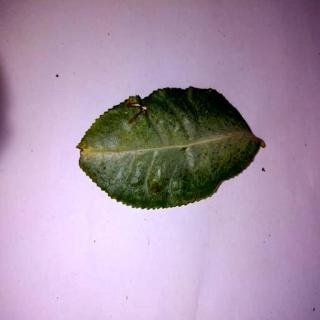Anthracnose: (79, 88, 266, 206)
